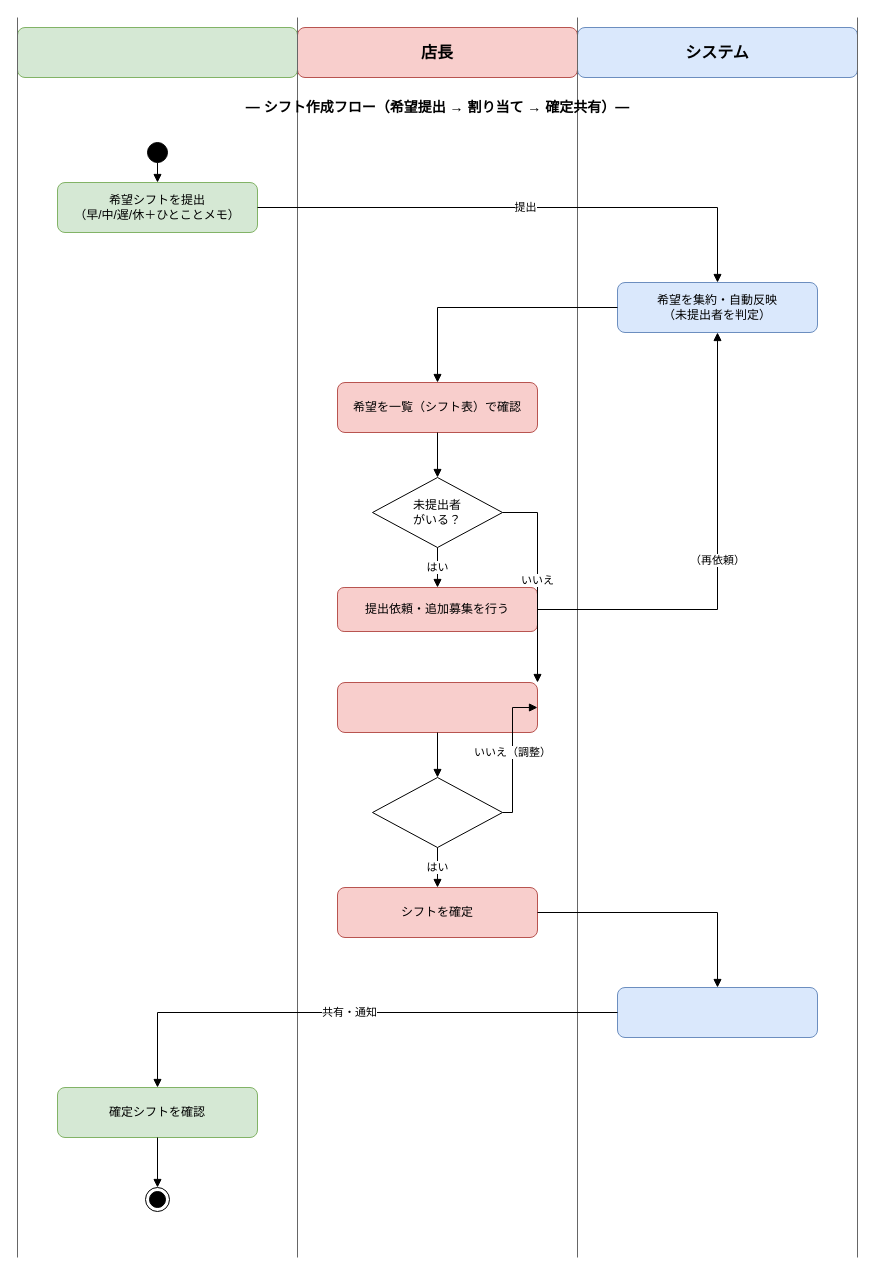
Image size: 876x1276. Some labels were removed from this diagram. Here are the shapes that lost their labels. From the top down, the centre of each, then its label:
point (157, 52): スタッフ
point (437, 707): 各日に割り当て / 一括操作
point (437, 812): 人数は 適正？
point (717, 1012): 確定シフトを共有・通知 （印刷 / CSV出力）
